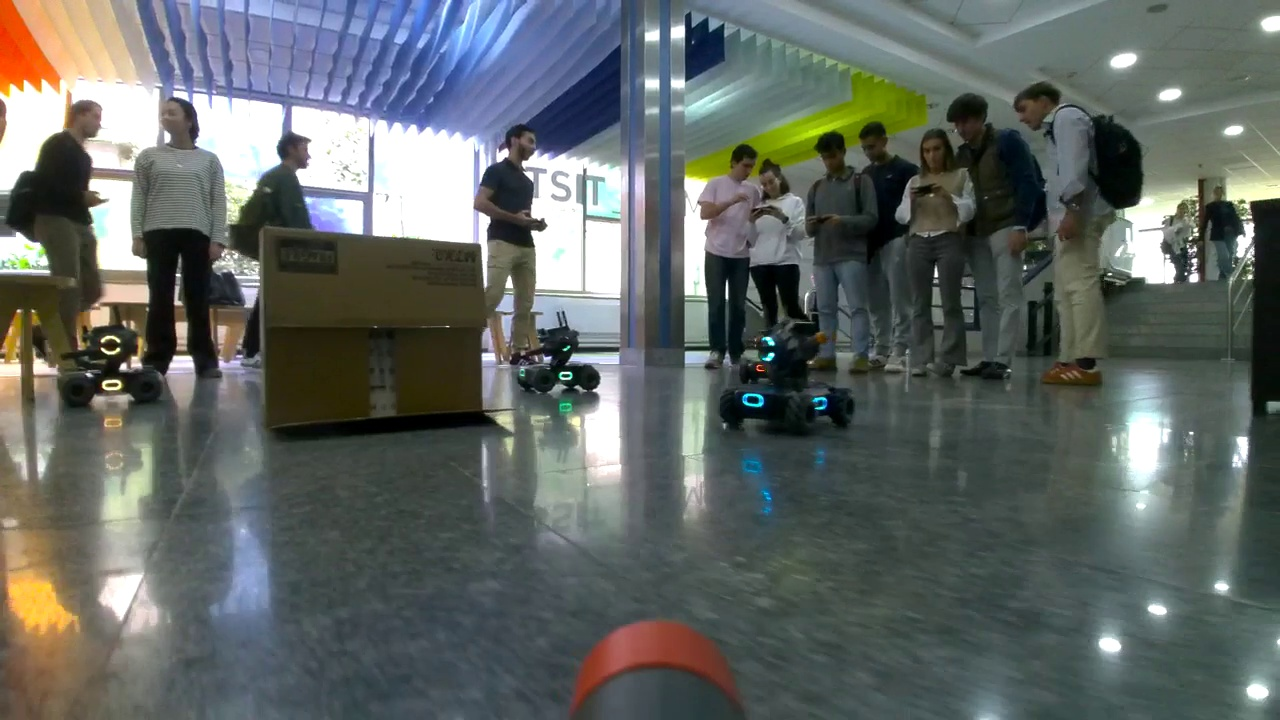robot: (719, 319, 854, 429), (49, 328, 169, 400), (506, 328, 602, 392)
